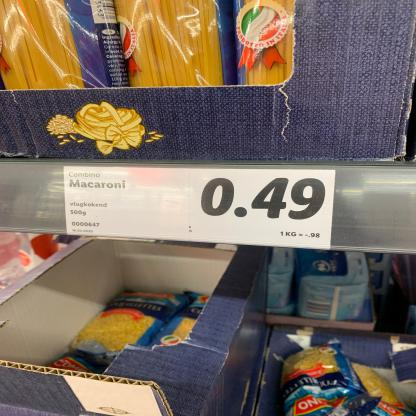prtg: (64, 167, 337, 251)
